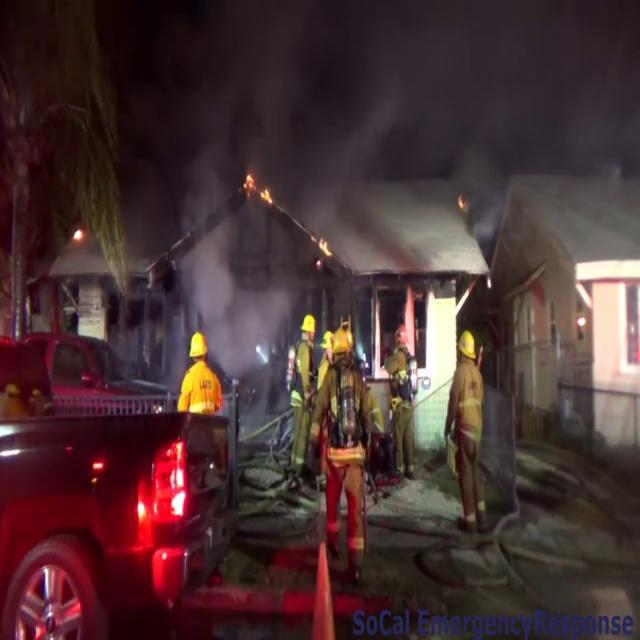Smoke: (124, 0, 636, 340)
